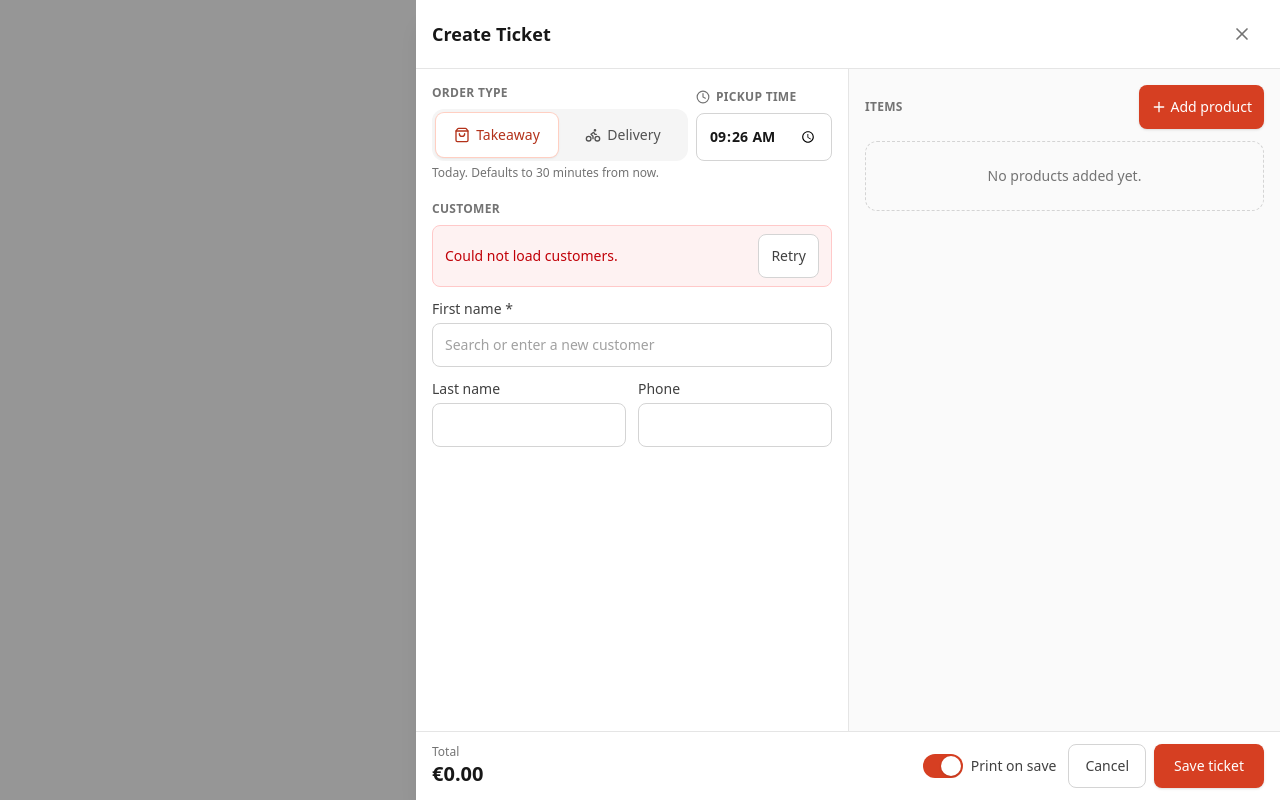
Test case: TicketSidebar › shows an error and retries loading the customers
Click the button "Retry": (789, 256) [758,234,819,278]
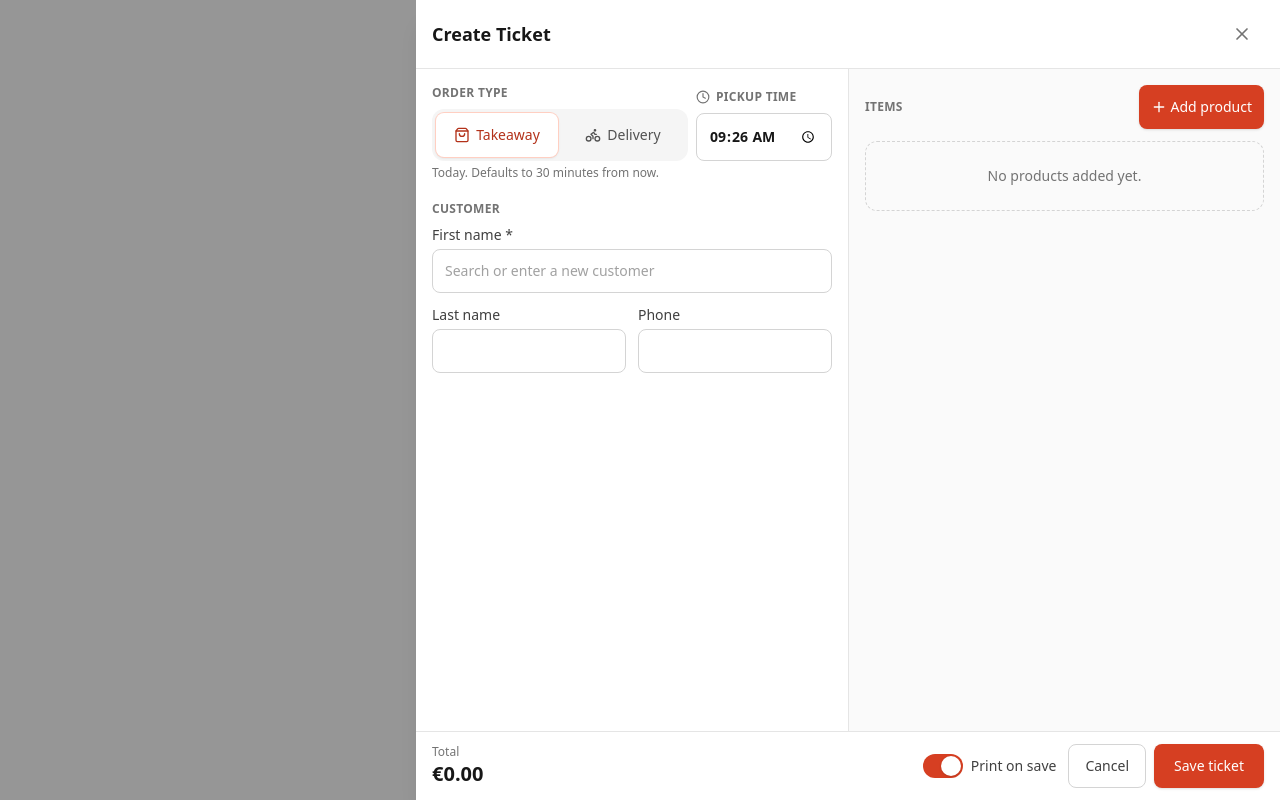
Expected: the message "Could not load customers. Retry" is gone
